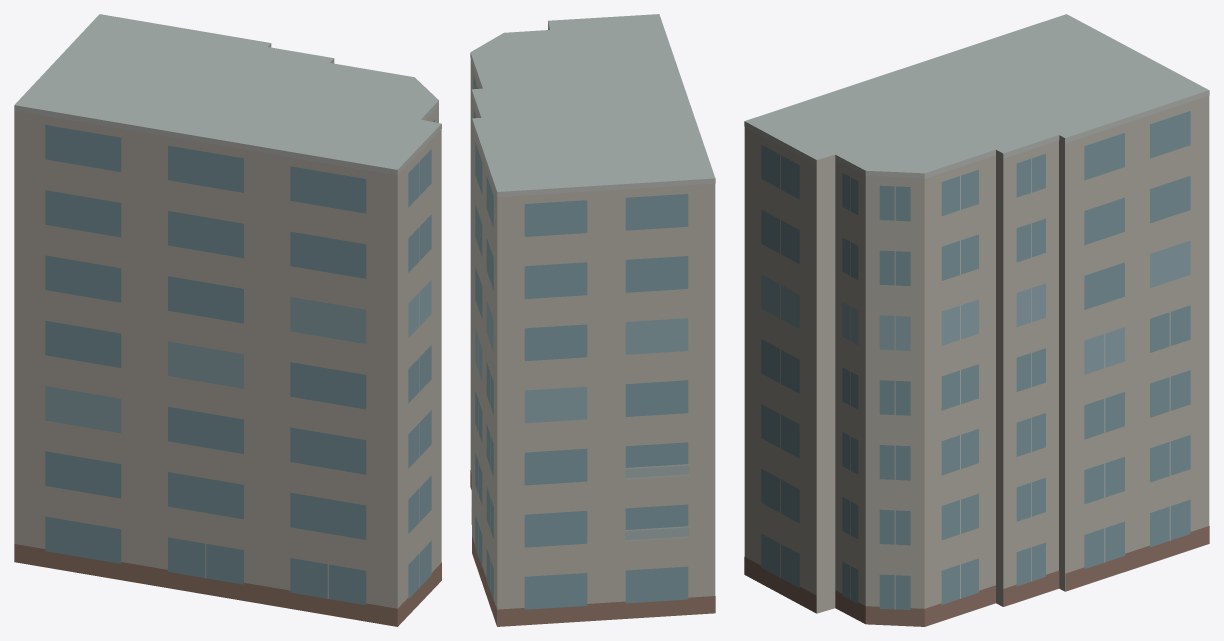
File: survey-upis-32920742.glb
The picture shows the model from 3 angles, left to right: view 1: azimuth 30°, elevation 25°; view 2: azimuth 150°, elevation 25°; view 3: azimuth 270°, elevation 25°; orthographic projection. The views are drawn at different scales.
Visible parts, largest first — view 1: survey-upis-32920742.tmp; view 2: survey-upis-32920742.tmp; view 3: survey-upis-32920742.tmp.
Boxes of the visible parts, box(x1,y1,x2,y2) form: survey-upis-32920742.tmp: box(14, 14, 441, 626); survey-upis-32920742.tmp: box(470, 14, 715, 626); survey-upis-32920742.tmp: box(744, 14, 1209, 626).
Bounding box in the file's own units: 15.6 × 20.7 × 19.24.
